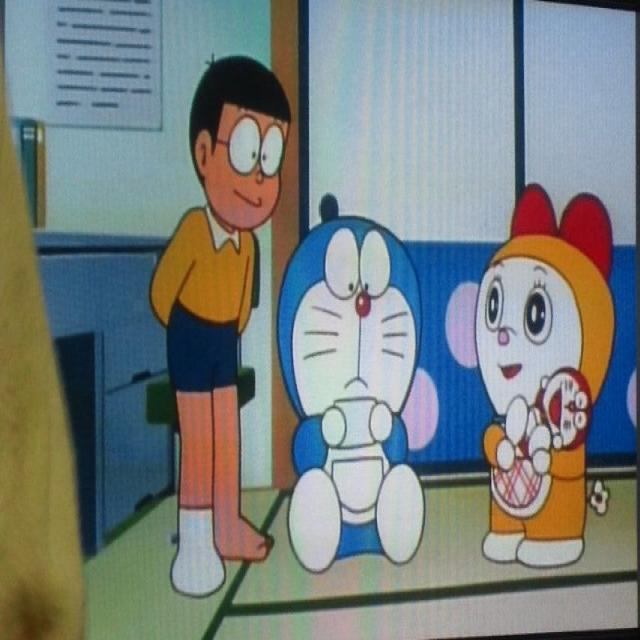doraemon: (274, 212, 426, 459)
nobita: (184, 51, 288, 244)
